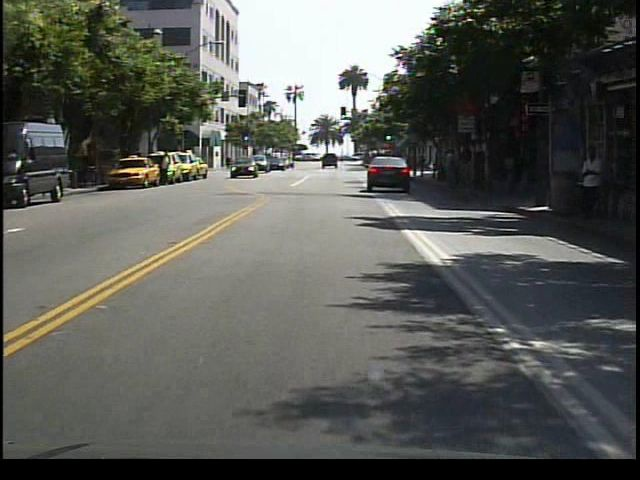person: (573, 143, 609, 228), (158, 151, 174, 190)
